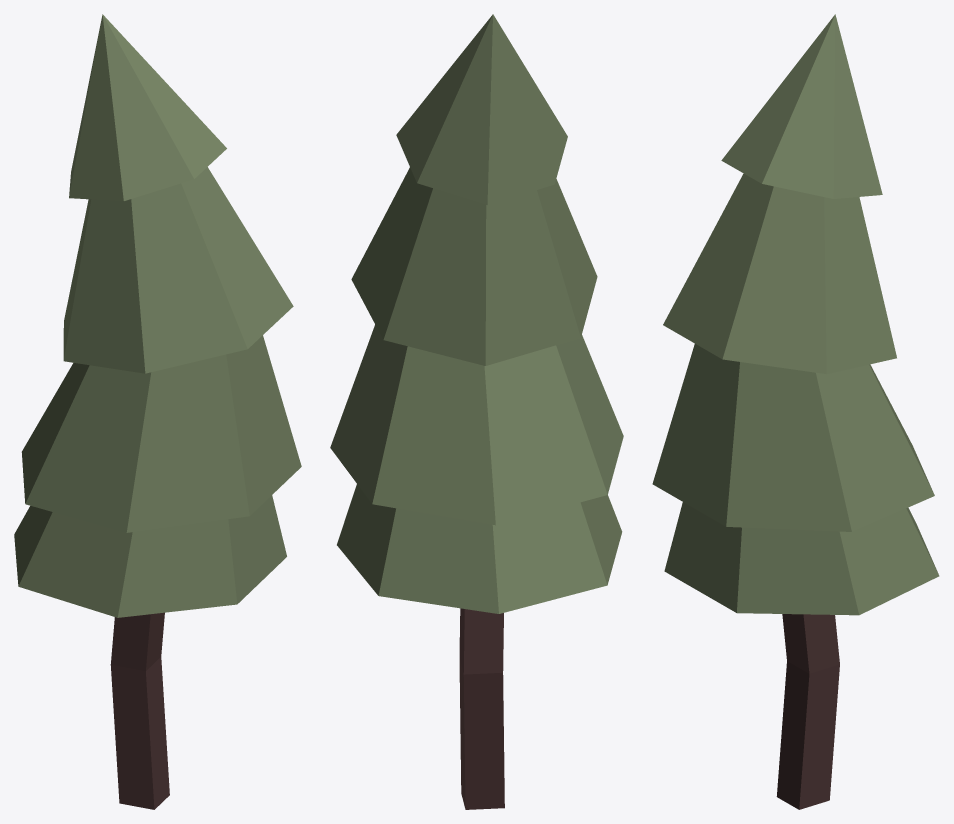
Rendered from DyingVegetationDecorationSmallWeatheredTree1.fbx.
The picture shows the model from 3 angles, left to right: view 1: azimuth 30°, elevation 25°; view 2: azimuth 150°, elevation 25°; view 3: azimuth 270°, elevation 25°; orthographic projection. The views are drawn at different scales.
Visible parts, largest first — view 1: Canopy, Trunk; view 2: Canopy, Trunk; view 3: Canopy, Trunk.
Part boxes in pixels (<box>): Canopy: <box>14,14,301,617</box>; Trunk: <box>110,612,169,809</box>; Canopy: <box>330,14,623,613</box>; Trunk: <box>459,608,504,809</box>; Canopy: <box>652,14,939,615</box>; Trunk: <box>776,614,839,809</box>.
Bounding box in the file's own units: 401 × 1210 × 408.
